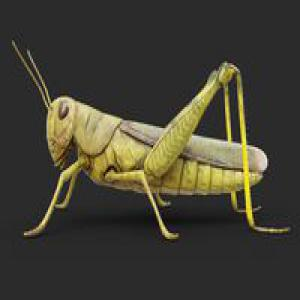locust: (27, 58, 282, 242)
